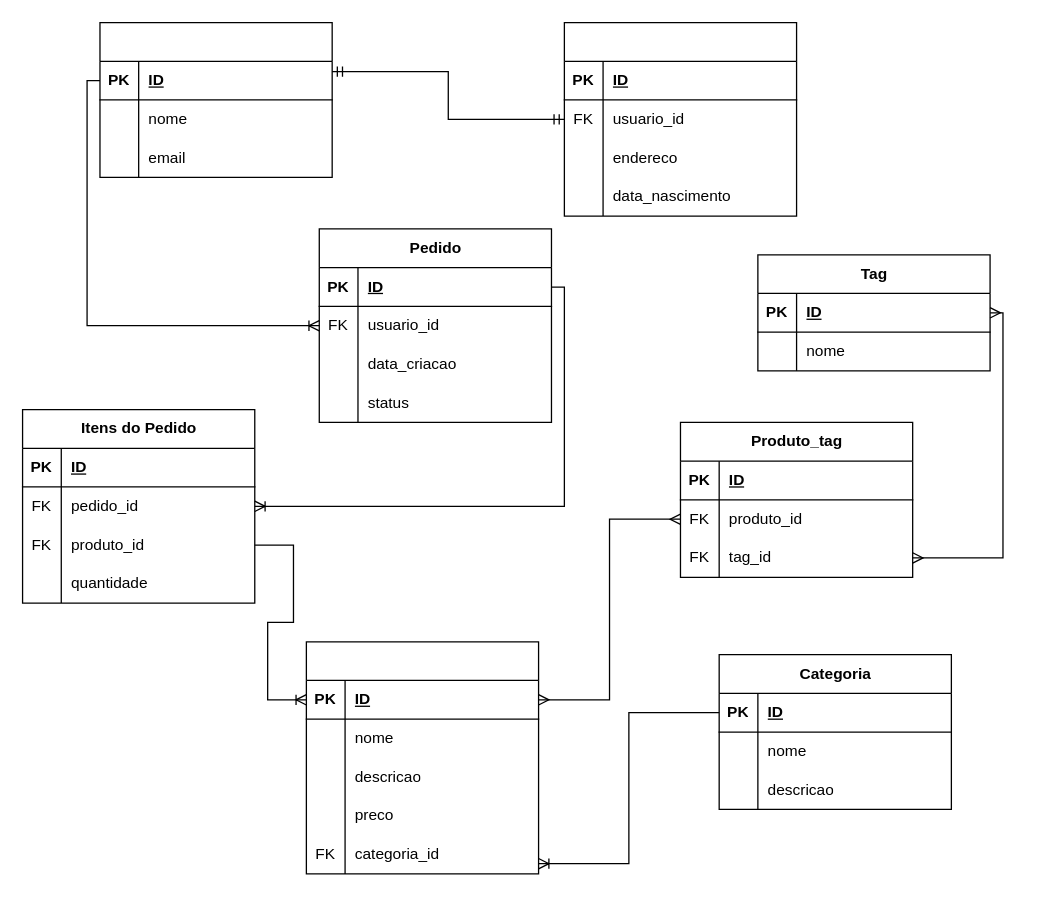
The diagram is 1037 pixels wide and 897 high, and some of its shapes have lost their labels. Here are the shapes that lost their labels. From the top down, the box of each, then its label:
(99, 21, 332, 177): Usuarios
(563, 21, 797, 216): Perfil de usuarios
(305, 640, 539, 874): Produto
